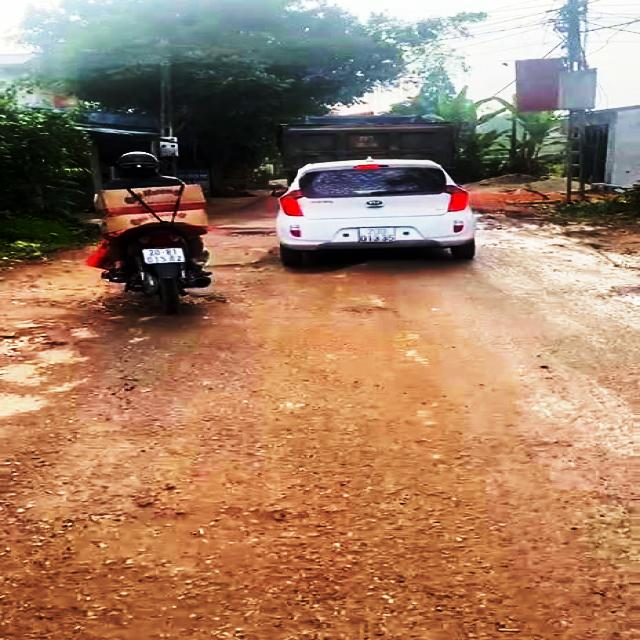pothole: (0, 331, 66, 360), (203, 256, 281, 275)
